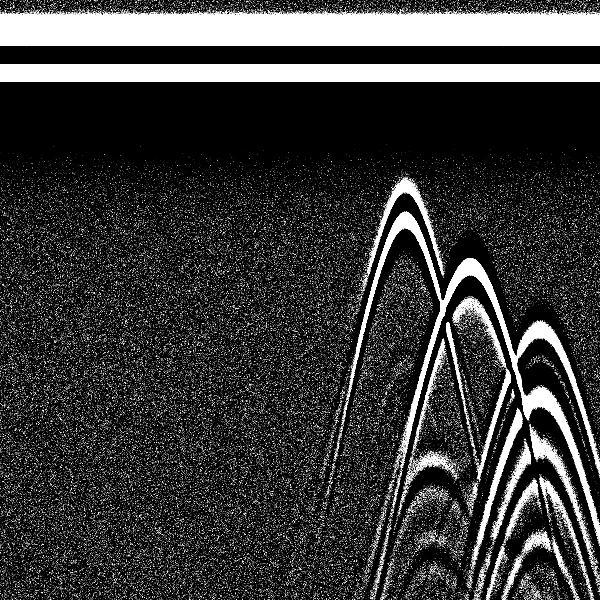pipe: (491, 4, 588, 396), (420, 6, 516, 338), (361, 6, 446, 267)
